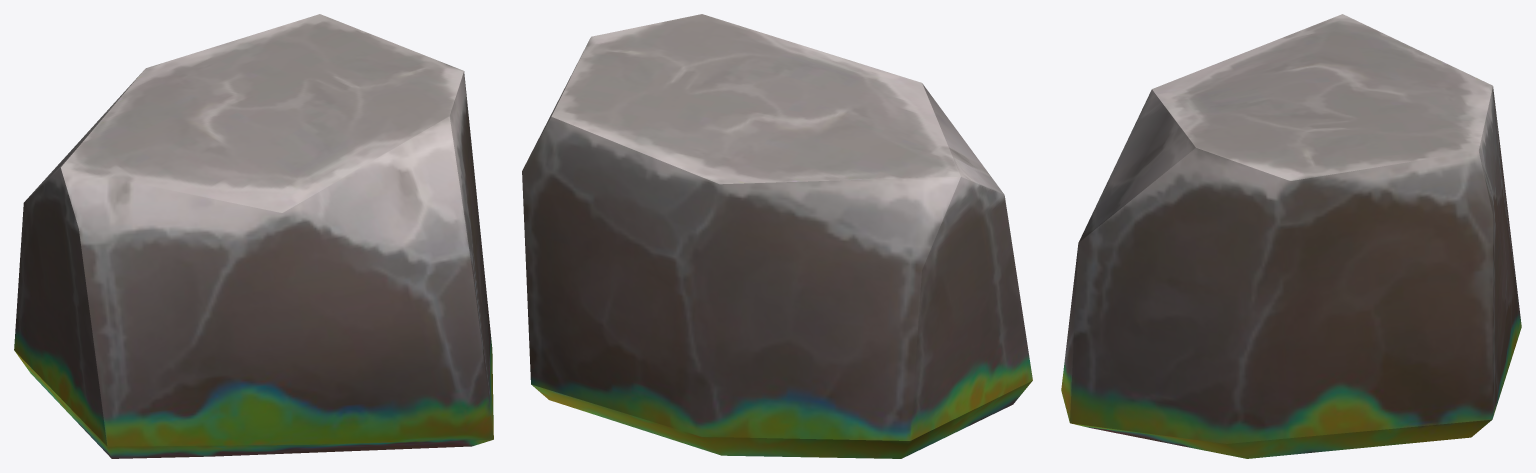
File: ROK0110048.fbx
3 views of the same model, side by side, from view 1: azimuth 30°, elevation 25°; view 2: azimuth 150°, elevation 25°; view 3: azimuth 270°, elevation 25° (orthographic). The views are drawn at different scales.
Visible parts, largest first — view 1: smROK0110048; view 2: smROK0110048; view 3: smROK0110048.
Part boxes in pixels (x1,y1,x2,y2): smROK0110048: [14, 14, 493, 458]; smROK0110048: [522, 14, 1032, 458]; smROK0110048: [1061, 14, 1521, 458].
Size of the model in its own units: 91.82 by 67.42 by 90.84.
Materials: 1 (1 with a texture image).
